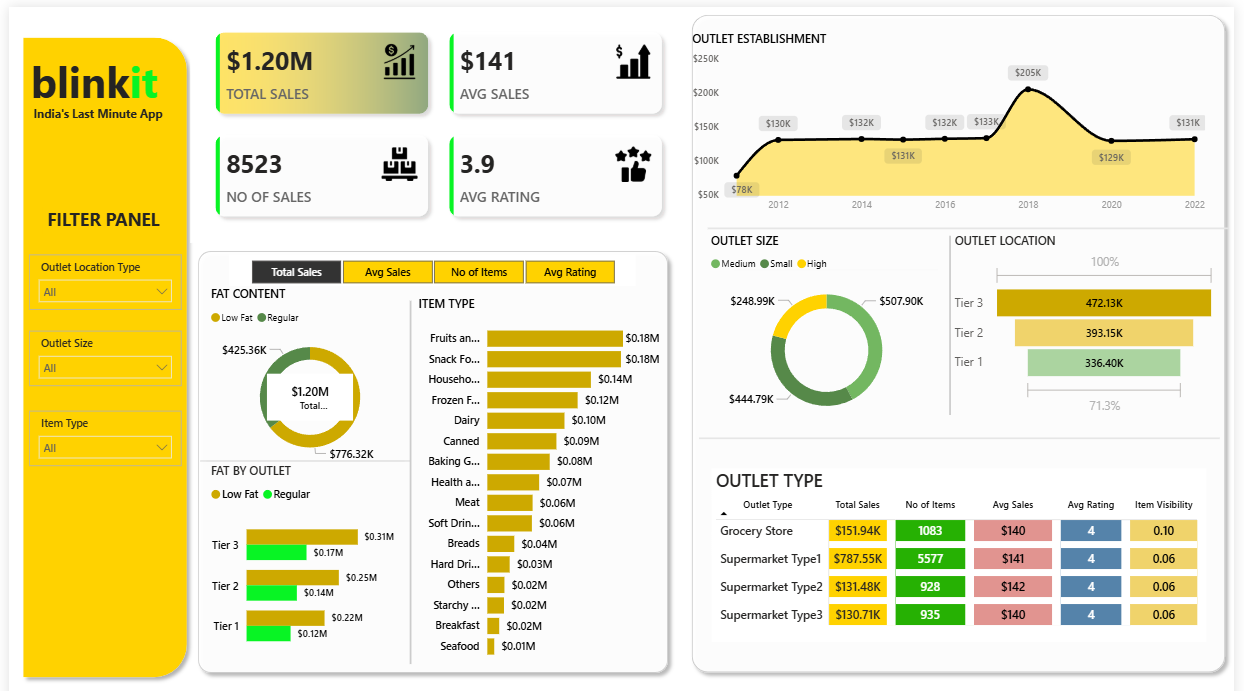

What the dashboard file says about the page in this screenshot:
{"tool":"powerbi","page":{"name":"Page 1","canvas":[1400,800],"ordinal":0},"visuals":[{"type":"shape","box":[6.7,25.5,205.1,749.3],"z":0},{"type":"textbox","box":[20.1,46.9,172.9,77.7],"z":1000},{"type":"textbox","box":[22.8,107.2,174.3,33.5],"z":2000},{"type":"cardVisual","fields":{"Data":["BlinkIT Grocery Data.Total Sales","BlinkIT Grocery Data.Avg Sales","BlinkIT Grocery Data.No of Items","BlinkIT Grocery Data.Avg Rating"]},"box":[207,0,569.7,269.4],"z":3000},{"type":"shape","box":[206.4,269.4,555,500],"z":4000},{"type":"donutChart","title":"FAT CONTENT","fields":{"Y":["BlinkIT Grocery Data.Total Sales"],"Category":["BlinkIT Grocery Data.Item Fat Content"]},"box":[225.2,319,237,210],"z":5000},{"type":"slicer","fields":{"Values":["Metrics.Metrics"]},"box":[252,282.8,465.1,36.2],"z":6000},{"type":"cardVisual","fields":{"Data":["BlinkIT Grocery Data.Total Sales"]},"box":[289.5,414.2,108.6,63],"z":7000},{"type":"clusteredBarChart","title":"FAT BY OUTLET","fields":{"Y":["BlinkIT Grocery Data.Total Sales"],"Category":["BlinkIT Grocery Data.Outlet Location Type"],"Series":["BlinkIT Grocery Data.Item Fat Content"]},"box":[225.2,520.1,219.8,230.6],"z":8000},{"type":"shape","box":[225.2,512.1,233.2,14.7],"z":9000},{"type":"shape","box":[828.4,293.6,233.2,14.7],"z":10000},{"type":"shape","box":[442.4,335.1,32.2,415.6],"z":11000},{"type":"barChart","title":"ITEM TYPE","fields":{"Y":["BlinkIT Grocery Data.Total Sales"],"Category":["BlinkIT Grocery Data.Item Type"]},"box":[462.5,329.8,285.5,424.9],"z":12000},{"type":"shape","box":[772.1,0,627.3,769.4],"z":13000},{"type":"lineChart","title":"OUTLET ESTABLISHMENT","fields":{"Category":["BlinkIT Grocery Data.Outlet Establishment Year"],"Y":["BlinkIT Grocery Data.Total Sales"]},"box":[776.1,26.8,596.5,215.8],"z":14000},{"type":"shape","box":[218.5,512.1,233.2,14.7],"z":15000},{"type":"shape","box":[788.2,482.6,595.2,20.1],"z":16000},{"type":"donutChart","title":"OUTLET SIZE","fields":{"Y":["BlinkIT Grocery Data.Total Sales"],"Category":["BlinkIT Grocery Data.Outlet Size"]},"box":[797.6,257.4,274.8,225.2],"z":17000},{"type":"shape","box":[1061.7,261.4,28.2,205.1],"z":18000},{"type":"funnel","title":"OUTLET LOCATION","fields":{"Y":["Sum(BlinkIT Grocery Data.Sales)"],"Category":["BlinkIT Grocery Data.Outlet Location Type"]},"box":[1076.4,257.4,308.3,213.1],"z":19000},{"type":"shape","box":[798.2,244.6,595.2,17.4],"z":20000},{"type":"pivotTable","title":"OUTLET TYPE","fields":{"Rows":["BlinkIT Grocery Data.Outlet Type"],"Values":["BlinkIT Grocery Data.Total Sales","BlinkIT Grocery Data.No of Items","BlinkIT Grocery Data.Avg Sales","BlinkIT Grocery Data.Avg Rating","Avg(BlinkIT Grocery Data.Item Visibility)"]},"box":[803,526.8,565.7,198.4],"z":21000},{"type":"slicer","fields":{"Values":["BlinkIT Grocery Data.Outlet Location Type"]},"box":[22.9,282.9,174.3,62.9],"z":22000},{"type":"slicer","fields":{"Values":["BlinkIT Grocery Data.Outlet Size"]},"box":[22.9,370,174.3,62.9],"z":23000},{"type":"slicer","fields":{"Values":["BlinkIT Grocery Data.Item Type"]},"box":[22.9,461.4,174.3,62.9],"z":24000},{"type":"textbox","title":"FILTER PANEL","box":[38.6,228.6,154.3,30],"z":24001}]}

Visuals, with their boxes in screenshot pixels (x1, y1, x2, y2), scaled from the page's 1400x800 canvas onto the 1244x691 screenshot:
shape: crop(6, 22, 188, 669)
textbox: crop(18, 41, 171, 108)
textbox: crop(20, 93, 175, 122)
cardVisual - BlinkIT Grocery Data.Total Sales x BlinkIT Grocery Data.Avg Sales: crop(184, 0, 690, 233)
shape: crop(183, 233, 677, 665)
"FAT CONTENT" donutChart: crop(200, 276, 411, 457)
slicer - Metrics.Metrics: crop(224, 244, 637, 276)
cardVisual - BlinkIT Grocery Data.Total Sales: crop(257, 358, 354, 412)
"FAT BY OUTLET" clusteredBarChart: crop(200, 449, 395, 648)
shape: crop(200, 442, 407, 455)
shape: crop(736, 254, 943, 266)
shape: crop(393, 289, 422, 648)
"ITEM TYPE" barChart: crop(411, 285, 665, 652)
shape: crop(686, 0, 1243, 665)
"OUTLET ESTABLISHMENT" lineChart: crop(690, 23, 1220, 210)
shape: crop(194, 442, 401, 455)
shape: crop(700, 417, 1229, 434)
"OUTLET SIZE" donutChart: crop(709, 222, 953, 417)
shape: crop(943, 226, 968, 403)
"OUTLET LOCATION" funnel: crop(956, 222, 1230, 406)
shape: crop(709, 211, 1238, 226)
"OUTLET TYPE" pivotTable: crop(714, 455, 1216, 626)
slicer - BlinkIT Grocery Data.Outlet Location Type: crop(20, 244, 175, 299)
slicer - BlinkIT Grocery Data.Outlet Size: crop(20, 320, 175, 374)
slicer - BlinkIT Grocery Data.Item Type: crop(20, 399, 175, 453)
"FILTER PANEL" textbox: crop(34, 197, 171, 223)
